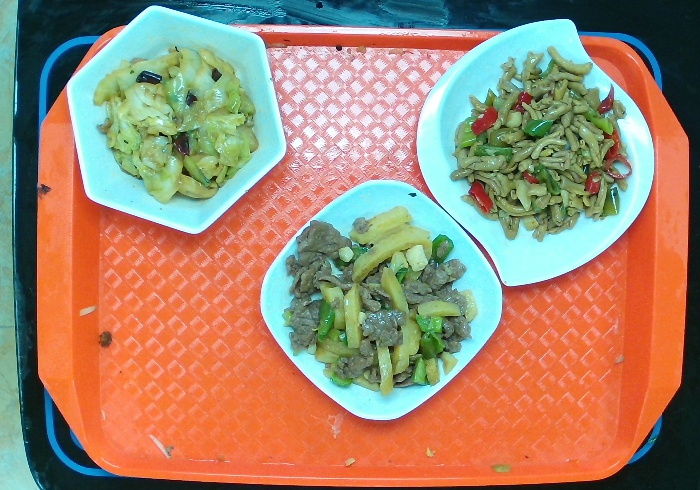RJxy-Liu_Jiao_Wan: (64, 4, 288, 236)
RJxy-Shuang_Jiao_Pan: (414, 17, 656, 287)
RJxy-Si_Fang_Wan: (257, 177, 504, 422)
